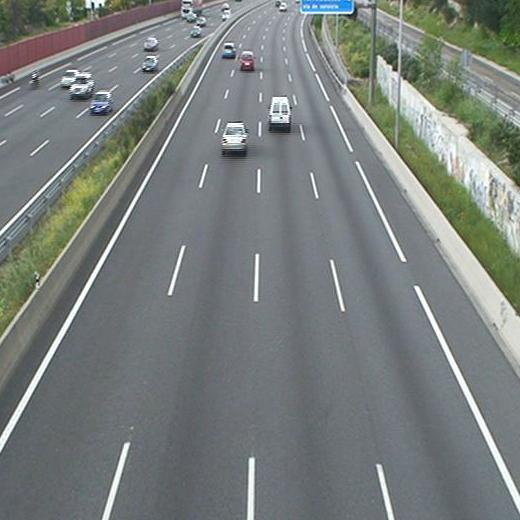car: (220, 121, 247, 157), (240, 50, 255, 71), (222, 42, 236, 60)
van: (267, 96, 292, 131)
